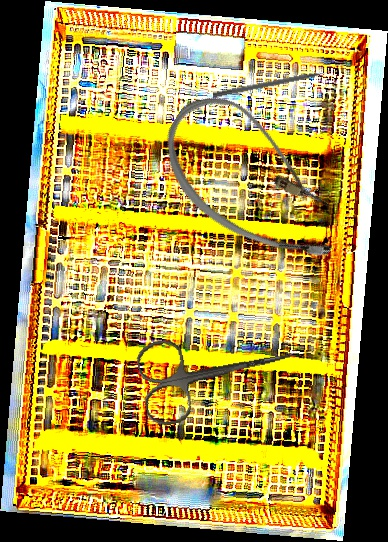Cannula: (140, 79, 371, 282)
Iris Scissors: (133, 315, 304, 429)
Pusher: (212, 67, 340, 100)
